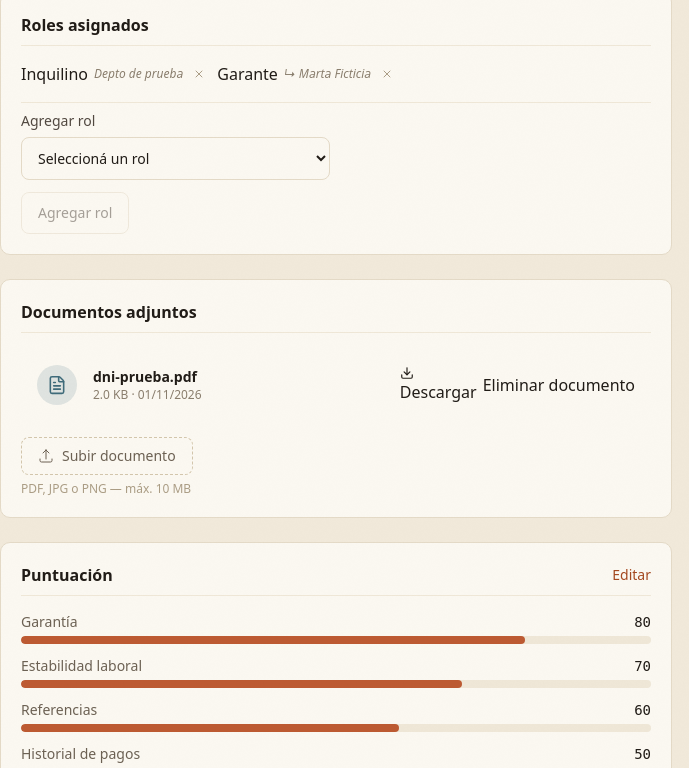
Test: PersonDetailPage › elimina un documento
(page scrolled)
Step 1. Click the button "Eliminar documento" → (559, 385), box [483,373,635,397]
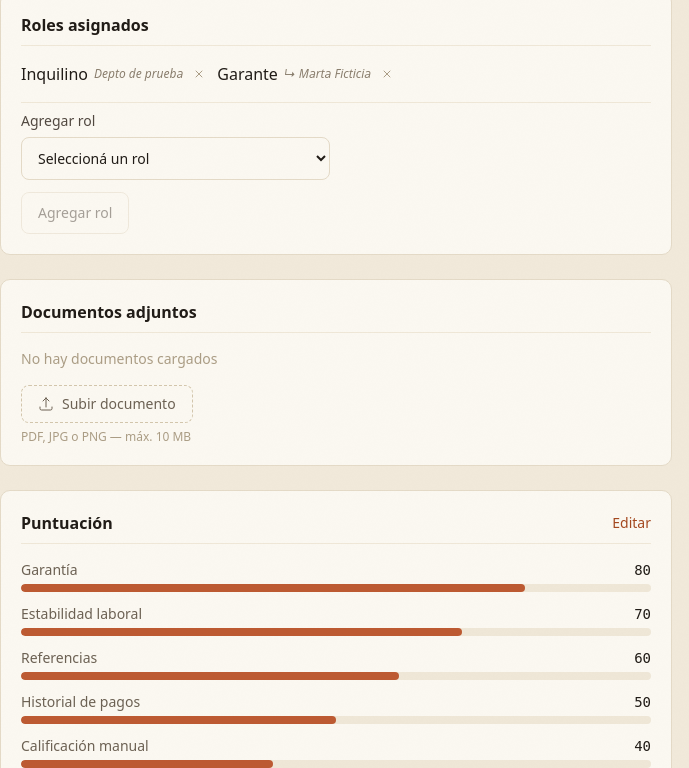
Now the text "No hay documentos cargados" is shown, box [21,349,218,368]
